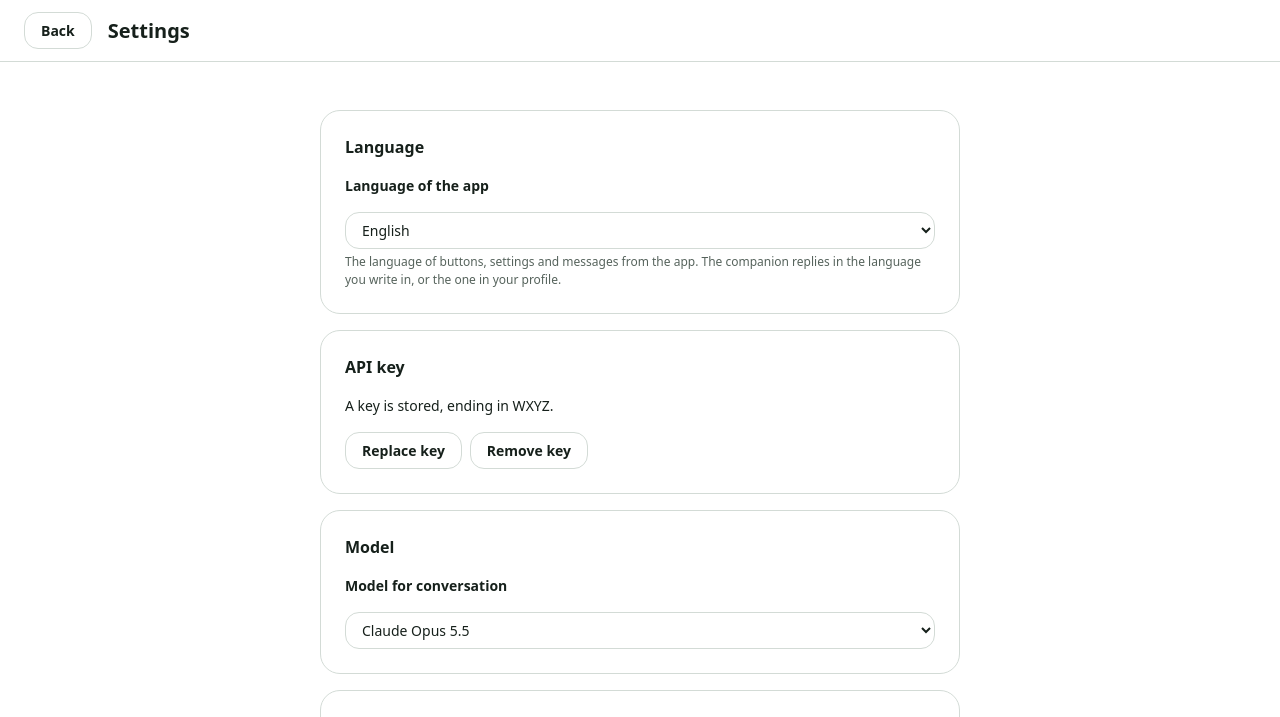
Test: SettingsView › shows the key's last four characters and asks before removing it
Later steps or results of the test are not shown.
expect the text "A key is stored, ending in WXYZ." is shown: met, box [345, 396, 554, 415]
Click the button "Remove key": (529, 450) [470, 432, 588, 469]
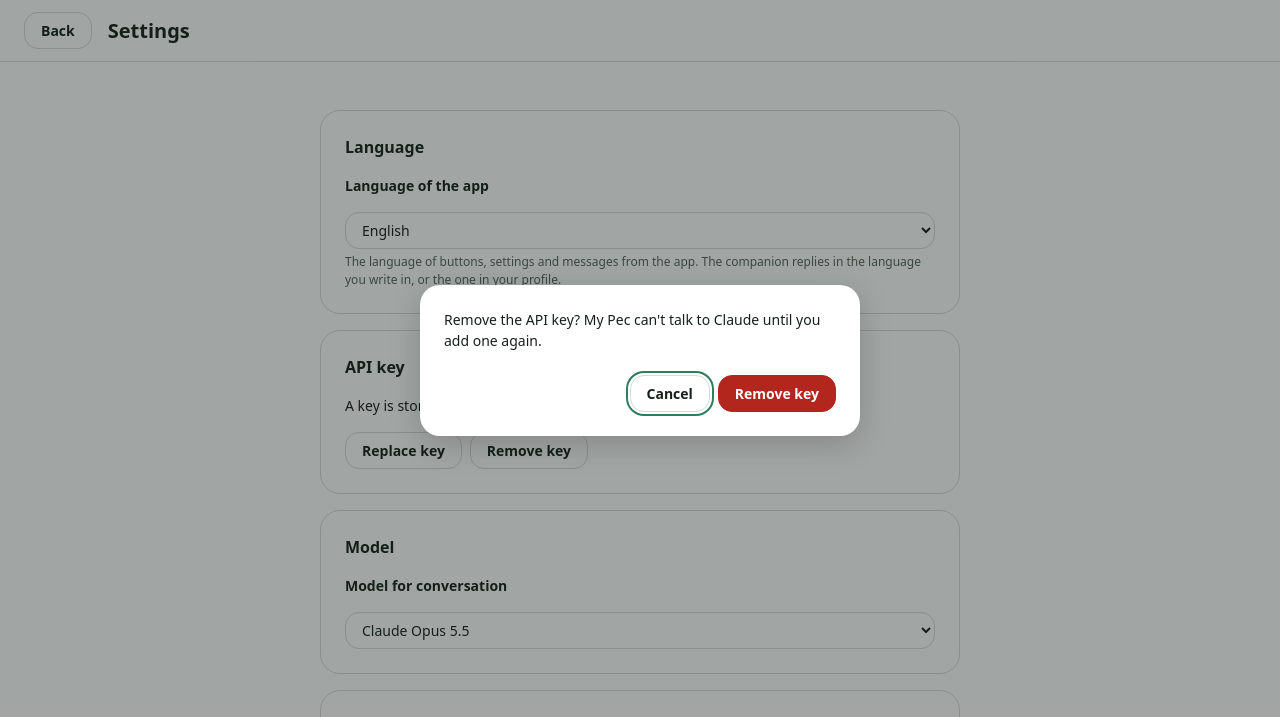
expect the dialog is shown: met, box [420, 284, 860, 436]
